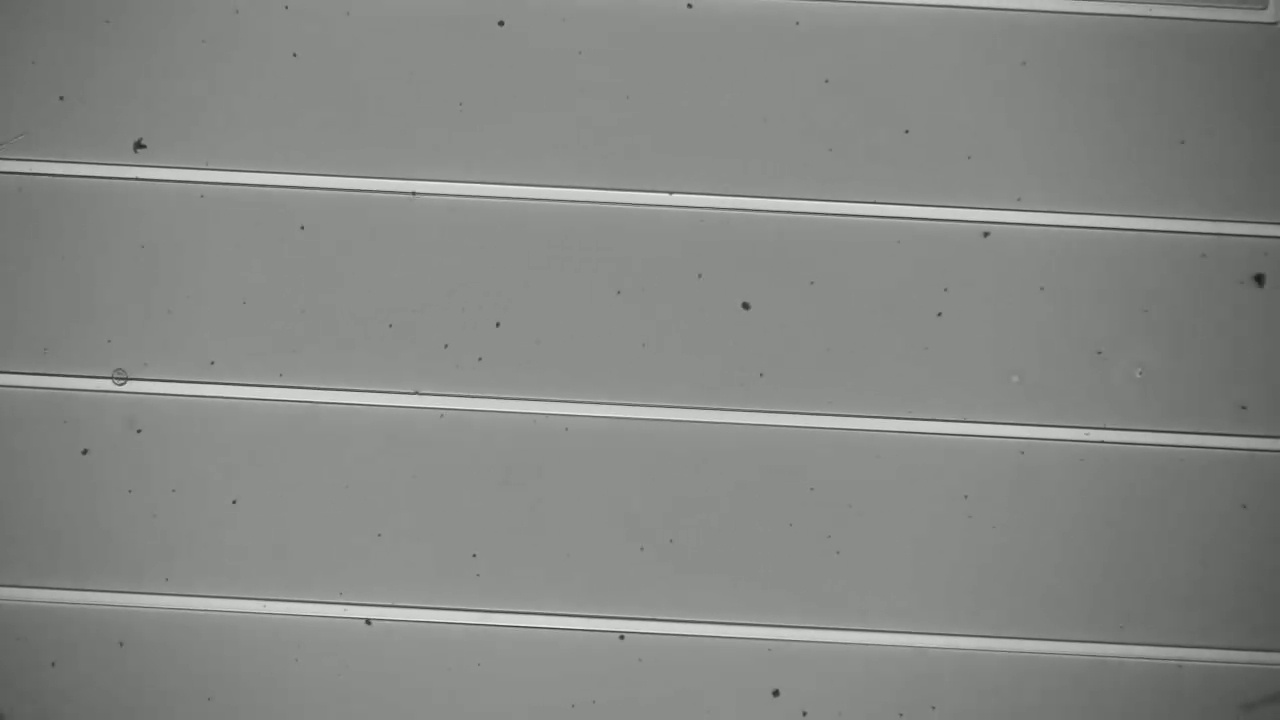stains_enbedded: (104, 362, 133, 403)
